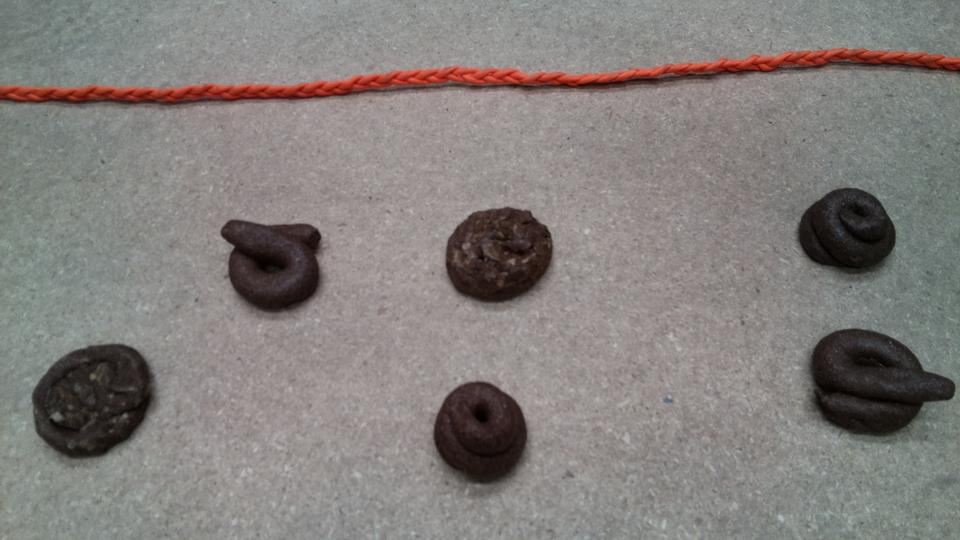poop: (808, 323, 958, 439), (26, 340, 157, 463), (443, 203, 558, 304), (218, 216, 325, 316), (430, 378, 529, 486), (796, 184, 904, 273)
rope: (1, 43, 959, 111)
